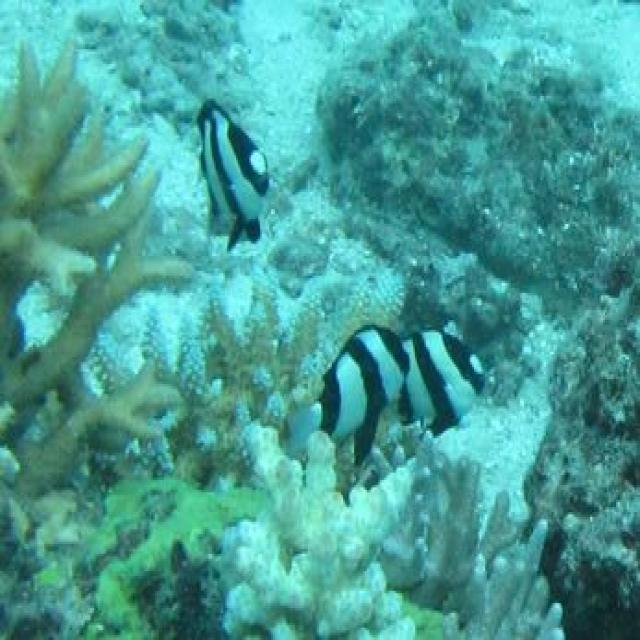ThreeStripedDamselfish: (291, 327, 408, 490), (197, 101, 271, 246), (398, 332, 485, 438)
